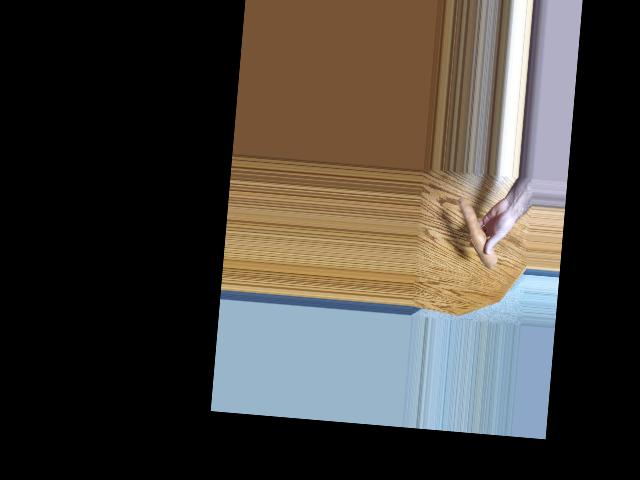sweet_potato: (457, 199, 499, 276)
